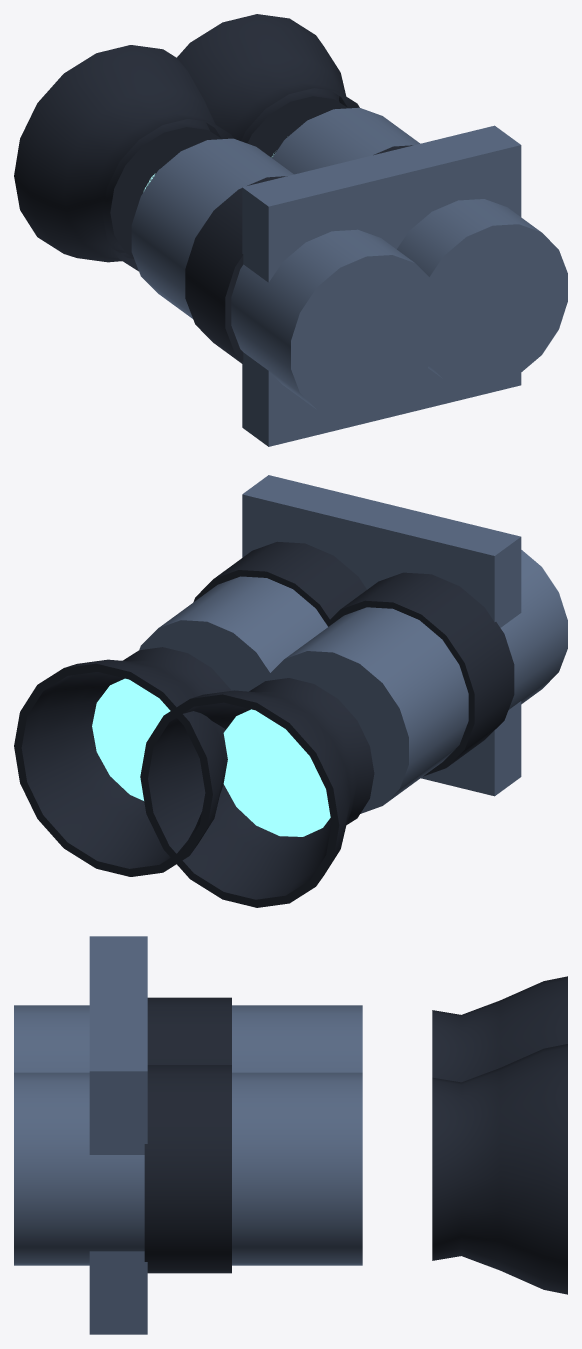
File: mod_motor_grande.fbx
3 renders of one model, top to bottom at view 1: azimuth 30°, elevation 25°; view 2: azimuth 150°, elevation 25°; view 3: azimuth 270°, elevation 25°, orthographic. The views are drawn at different scales.
Parts seen in each view (by area): view 1: Motor_grande; view 2: Motor_grande, Motor_grande_Neon; view 3: Motor_grande.
Boxes of the visible parts, x1,y1,x2,y2 form: Motor_grande: (14, 14, 567, 446); Motor_grande: (14, 475, 567, 907); Motor_grande_Neon: (92, 678, 330, 836); Motor_grande: (14, 936, 567, 1334).
Size of the model in its own units: 1.19 by 0.84 by 1.6.
